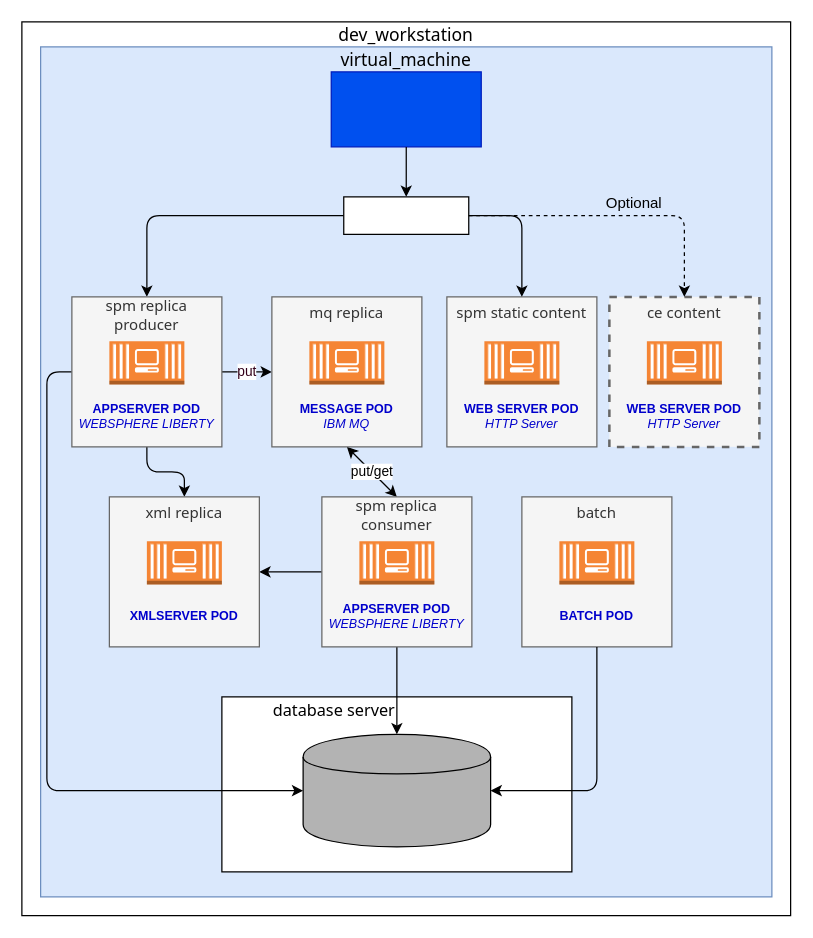
Some shapes in this 813 by 938 pixel diagram are drawn without their labels. The centre of each missing label's shape, as x and y in pixels:
ingress controller: point (405, 109)
Services: point (405, 215)
spm database: point (396, 790)
